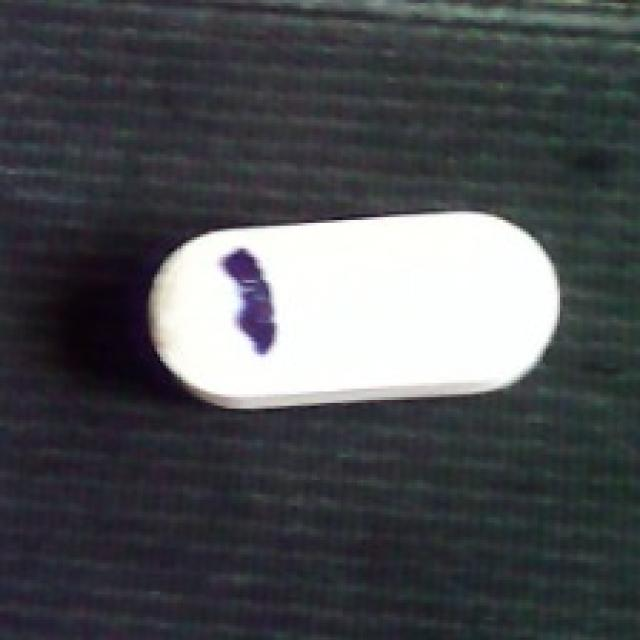defected: (134, 209, 569, 414)
